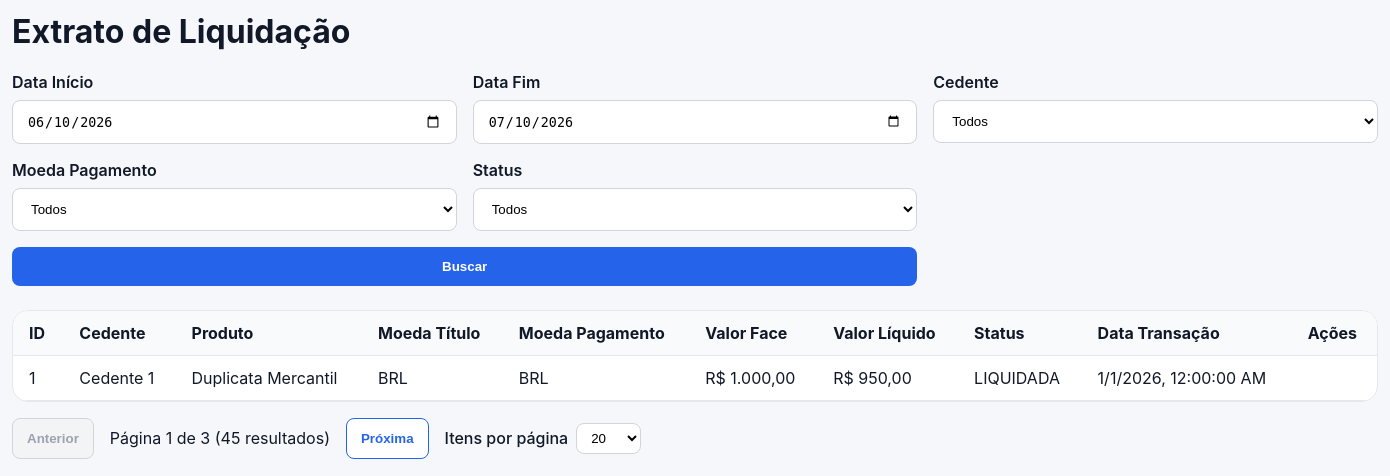
Test: ExtratoPage › navigates to the next page and back, requesting the right page param each time
The width and height of the screenshot is (1390, 476).
Expected: the text "Cedente 1" is shown, top-left (63, 355), bottom-right (176, 400)
Click the button "Próxima" at point(387, 438), box top-left (346, 418), bottom-right (429, 459)
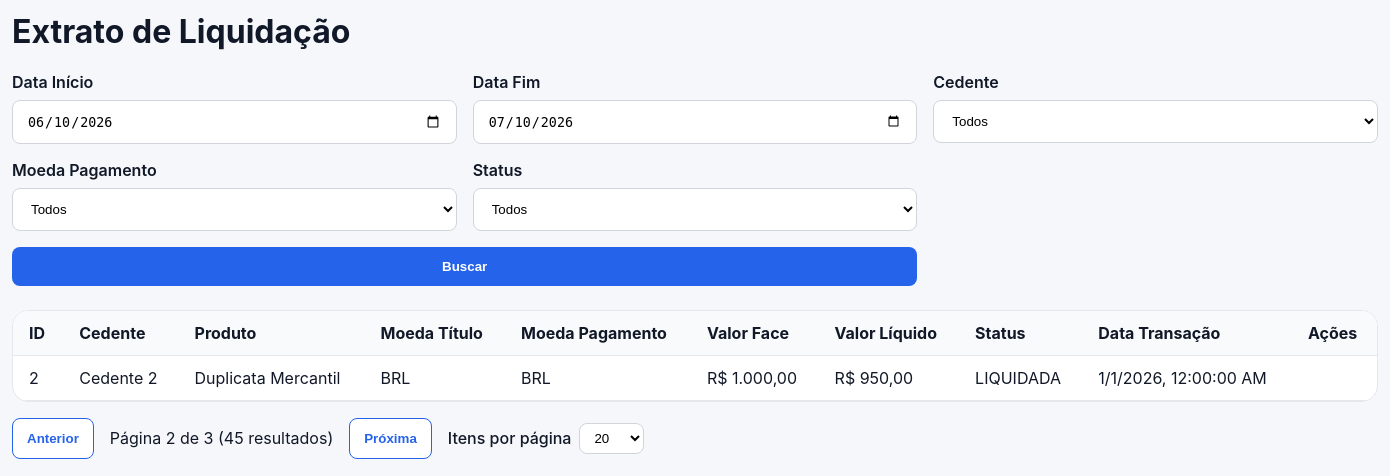
Result: the text "Cedente 2" is shown at top-left (63, 355), bottom-right (178, 400)
Result: the text "Página 2 de 3 (45 resultados)" is shown at top-left (110, 428), bottom-right (333, 448)
Click the button "Anterior" at point(53, 438), box top-left (12, 418), bottom-right (94, 459)
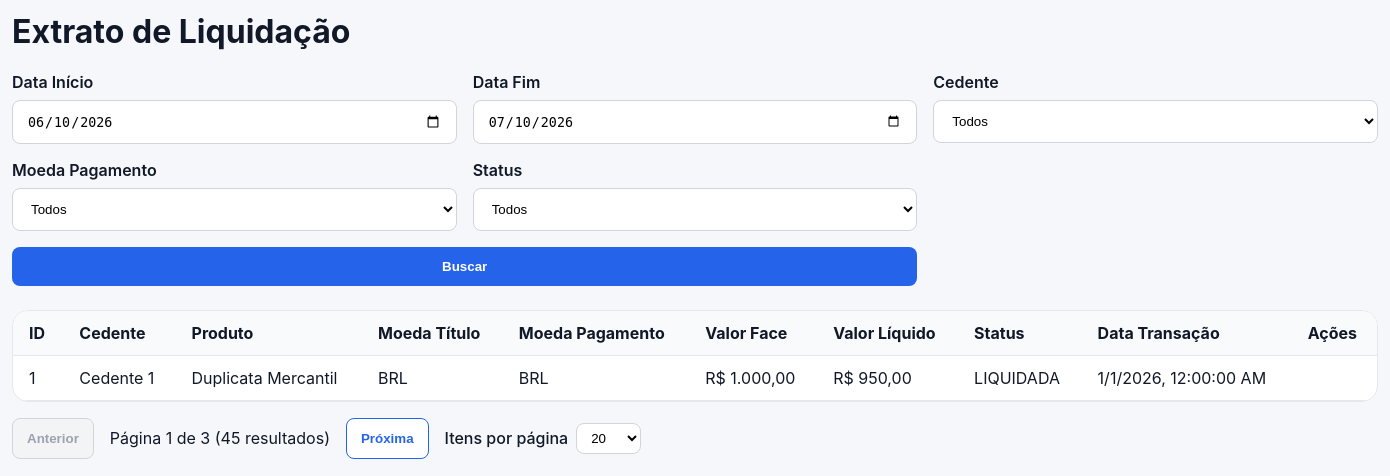
Result: the text "Cedente 1" is shown at top-left (63, 355), bottom-right (176, 400)
Result: the text "Página 1 de 3 (45 resultados)" is shown at top-left (110, 428), bottom-right (330, 448)
